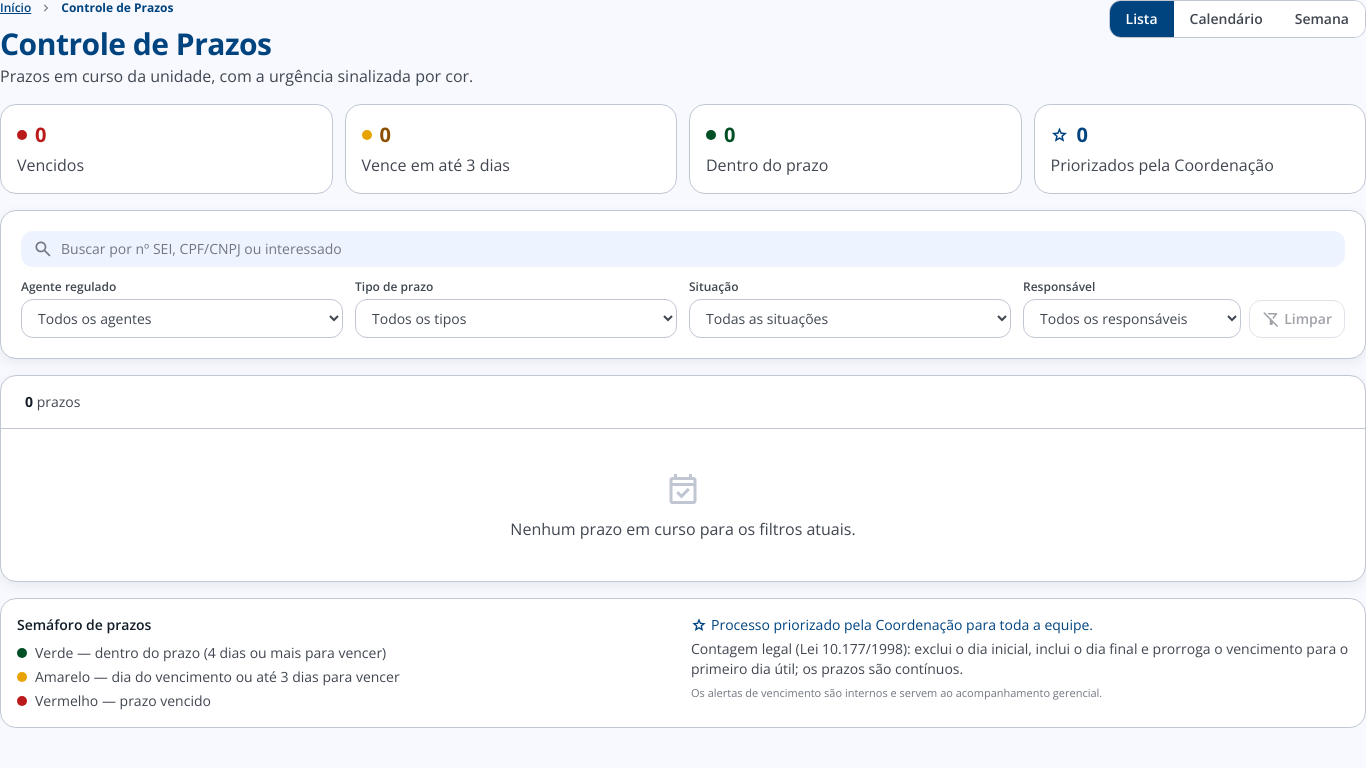
Test: PrazosPage › mostra a grade do calendário mesmo quando não há prazo no filtro
Expected: the text "Nenhum prazo em curso para os filtros atuais." is shown, [510,518,856,540]
Click the tab "Calendário" at coordinates (1226, 19), box [1174,1,1279,37]
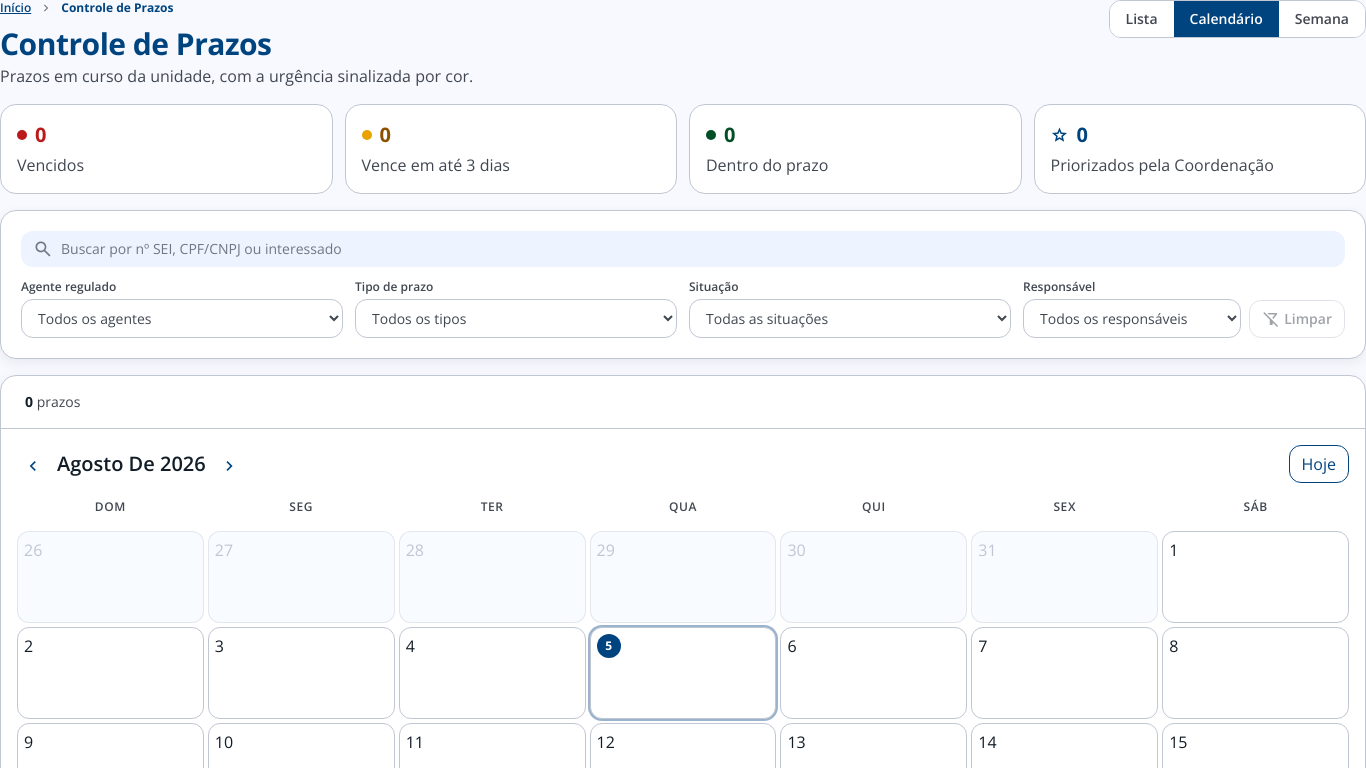
Now the heading "agosto de 2026" is shown, box [57,450,206,478]
Now the text "Nenhum prazo em curso" is gone
